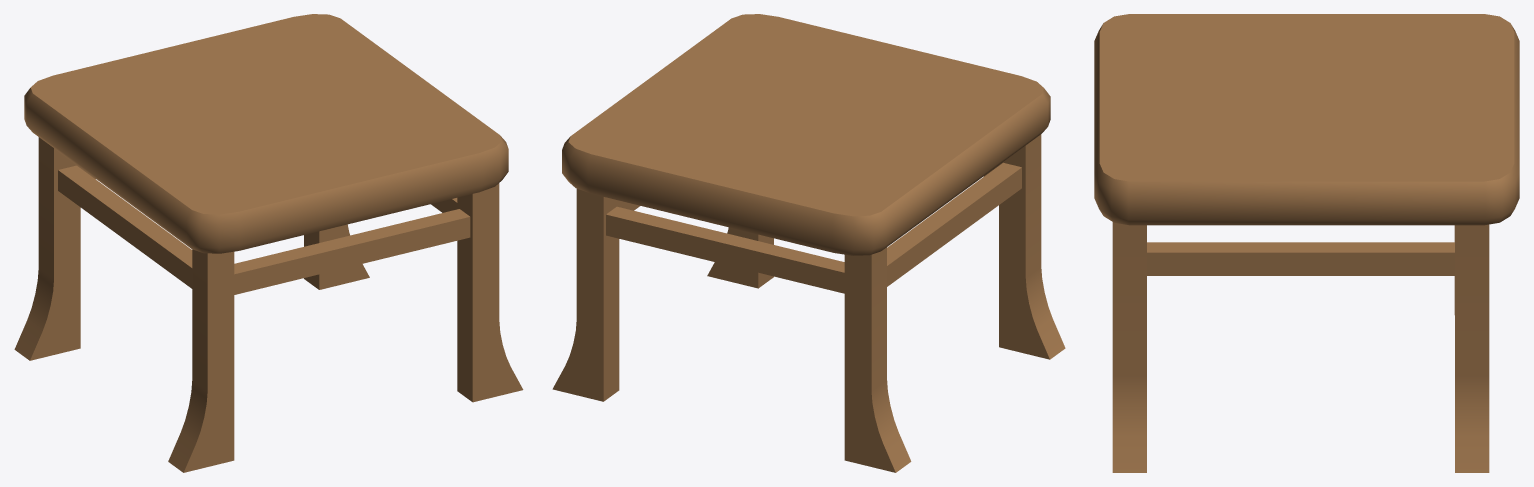
File: Table.glb
3 views of the same model, side by side, from view 1: azimuth 30°, elevation 25°; view 2: azimuth 150°, elevation 25°; view 3: azimuth 270°, elevation 25° (orthographic). The views are drawn at different scales.
Visible parts, largest first — view 1: Environment_Table; view 2: Environment_Table; view 3: Environment_Table.
Part boxes in pixels (box(x1,y1,x2,y2)): Environment_Table: box(14, 14, 523, 472); Environment_Table: box(552, 14, 1065, 472); Environment_Table: box(1094, 14, 1519, 472).
Bounding box in the file's own units: 2.18 × 1.55 × 2.11.
Materials: 1 (1 with a texture image).
